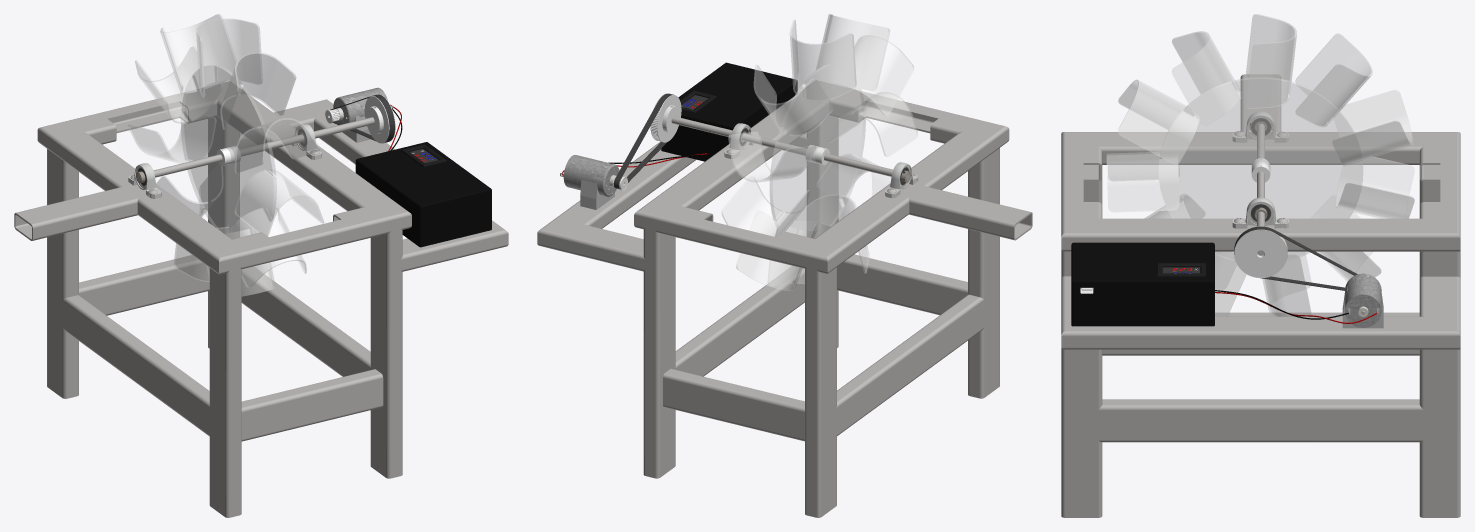
The model's file is plta.glb.
3 renders of one model, left to right at view 1: azimuth 30°, elevation 25°; view 2: azimuth 150°, elevation 25°; view 3: azimuth 270°, elevation 25°, orthographic. The views are drawn at different scales.
Parts seen in each view (by area): view 1: Solid1 (×21); view 2: Solid1 (×22); view 3: Solid1 (×22).
Boxes of the visible parts, x1,y1,x2,y2 form: Solid1 (×21): [14, 14, 508, 517]; Solid1 (×22): [537, 14, 1032, 517]; Solid1 (×22): [1061, 14, 1460, 517].
Size of the model in its own units: 0.5166 by 0.4761 by 0.39.
Materials: 32 (1 with a texture image).
